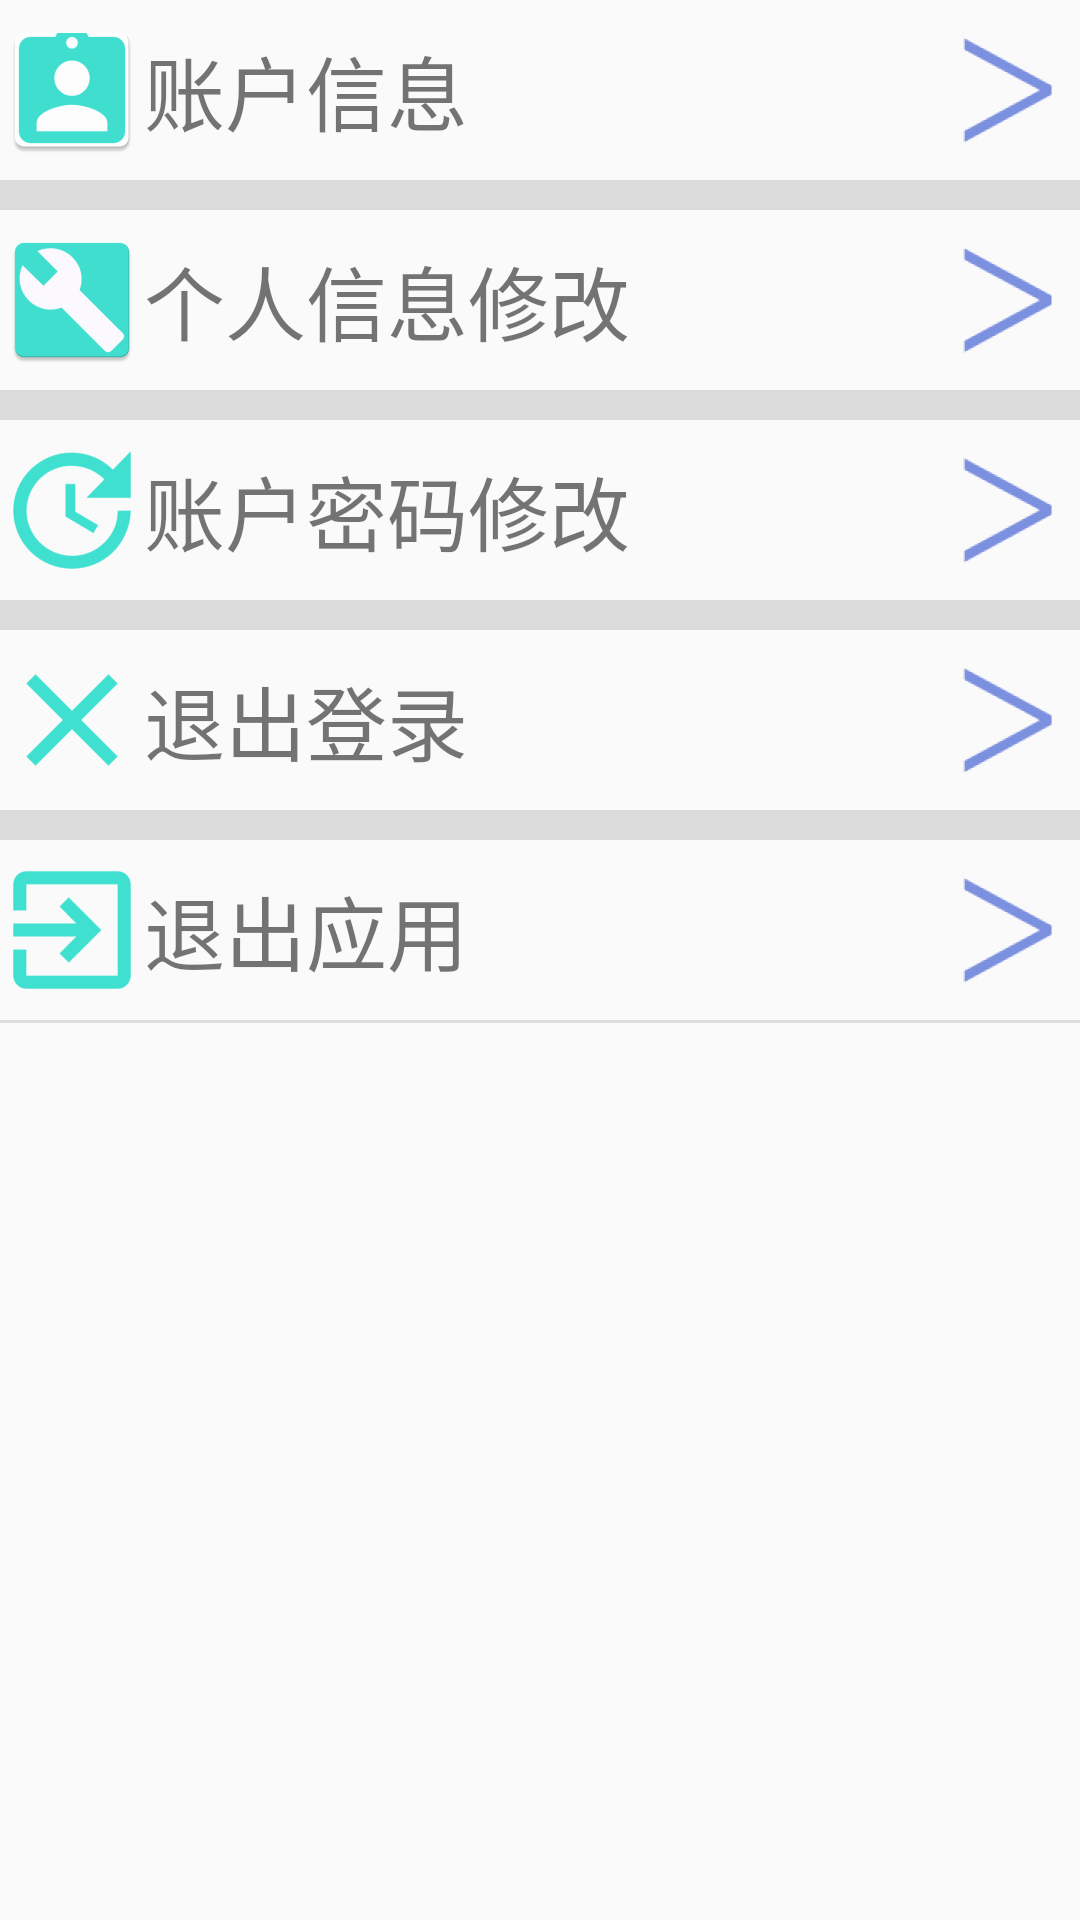

Screen size 1080px x 1920px. Icon name, then its center in pixels as (x,y):
exit app: (72,930)
exit login: (72,720)
perinfo update: (72,301)
personal information: (72,92)
right arrow: (1007,90), (1007,300), (1007,510), (1007,720), (1007,930)
